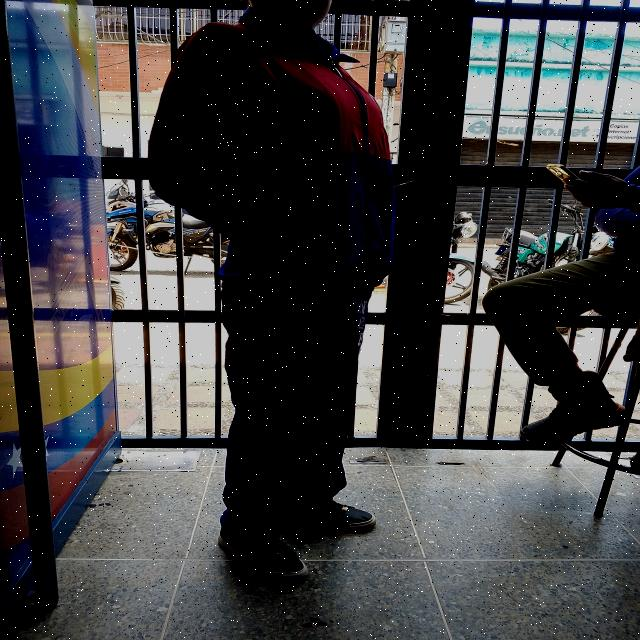chaqueta_unefa: (147, 7, 396, 294)
uniforme_superior: (216, 289, 371, 542)
